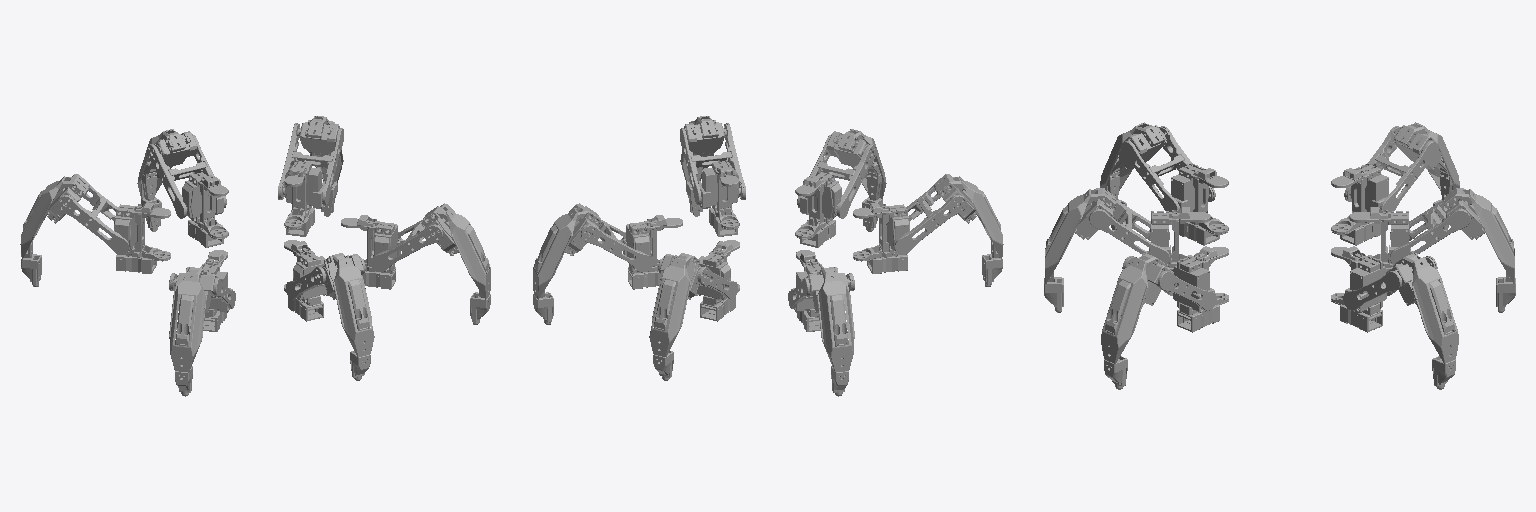
URDF robot description (sim_assembly):
<?xml version="1.0" ?>
<robot name="sim_assembly" xmlns:xacro="http://www.ros.org/wiki/xacro">

<link name="base_link">
  <inertial>
    <origin xyz="0.0029150291423598977 6.451213278016444e-05 0.08231668322927671" rpy="0 0 0"/>
    <mass value="2.7603940572615615"/>
    <inertia ixx="0.010426" iyy="0.011434" izz="0.020845" ixy="0.0" iyz="2e-06" ixz="8.2e-05"/>
  </inertial>
  <visual>
    <origin xyz="0 0 0" rpy="0 0 0"/>
    <geometry>
      <mesh filename="package://sim_description/meshes/base_link.stl" scale="0.001 0.001 0.001"/>
    </geometry>
    <material name="silver"/>
  </visual>
</link>

<link name="cox_L1_1">
  <inertial>
    <origin xyz="-0.02591620449566369 -0.02661901064445657 0.021624871839477283" rpy="0 0 0"/>
    <mass value="0.43432685299491564"/>
    <inertia ixx="0.000242" iyy="0.00024" izz="0.000124" ixy="-1.3e-05" iyz="1e-05" ixz="1.2e-05"/>
  </inertial>
  <visual>
    <origin xyz="0.087783 0.066055 -0.0596" rpy="0 0 0"/>
    <geometry>
      <mesh filename="package://sim_description/meshes/cox_L1_1.stl" scale="0.001 0.001 0.001"/>
    </geometry>
    <material name="red"/>
  </visual>
</link>

<link name="femur_L1_1">
  <inertial>
    <origin xyz="-0.00630362878791349 -0.04165884915417355 0.02374727271288421" rpy="0 0 0"/>
    <mass value="0.13198223137761092"/>
    <inertia ixx="9.4e-05" iyy="9.2e-05" izz="0.000131" ixy="1.3e-05" iyz="2.4e-05" ixz="2.4e-05"/>
  </inertial>
  <visual>
    <origin xyz="0.136785 0.078571 -0.0781" rpy="0 0 0"/>
    <geometry>
      <mesh filename="package://sim_description/meshes/femur_L1_1.stl" scale="0.001 0.001 0.001"/>
    </geometry>
    <material name="green"/>
  </visual>
</link>

<link name="tibia_L1_1">
  <inertial>
    <origin xyz="0.00443257717680598 -0.03266393553788731 -0.023970122942913882" rpy="0 0 0"/>
    <mass value="0.49510094478354577"/>
    <inertia ixx="0.000705" iyy="0.000714" izz="0.000267" ixy="-8.2e-05" iyz="-0.000196" ixz="-0.000204"/>
  </inertial>
  <visual>
    <origin xyz="0.183123 0.124909 -0.123986" rpy="0 0 0"/>
    <geometry>
      <mesh filename="package://sim_description/meshes/tibia_L1_1.stl" scale="0.001 0.001 0.001"/>
    </geometry>
    <material name="blue"/>
  </visual>
  <collision>
    <origin xyz="0.183123 0.124909 -0.123986" rpy="0 0 0"/>
    <geometry>
      <mesh filename="package://sim_description/meshes/tibia_L1_1.stl" scale="0.001 0.001 0.001"/>
    </geometry>
  </collision>
</link>

<link name="cox_L2_1">
  <inertial>
    <origin xyz="0.0004964743710710037 -0.03714794711024526 0.02162486116322518" rpy="0 0 0"/>
    <mass value="0.4343273697036566"/>
    <inertia ixx="0.000254" iyy="0.000228" izz="0.000124" ixy="1e-06" iyz="1.6e-05" ixz="1e-06"/>
  </inertial>
  <visual>
    <origin xyz="-0.0002 0.0855 -0.0596" rpy="0 0 0"/>
    <geometry>
      <mesh filename="package://sim_description/meshes/cox_L2_1.stl" scale="0.001 0.001 0.001"/>
    </geometry>
    <material name="red"/>
  </visual>
</link>

<link name="femur_L2_1">
  <inertial>
    <origin xyz="0.024999932602743927 -0.03391433252166742 0.023747300674978628" rpy="0 0 0"/>
    <mass value="0.13198203782549656"/>
    <inertia ixx="8e-05" iyy="0.000106" izz="0.000131" ixy="1e-06" iyz="3.4e-05" ixz="-1e-06"/>
  </inertial>
  <visual>
    <origin xyz="0.0256 0.129 -0.0781" rpy="0 0 0"/>
    <geometry>
      <mesh filename="package://sim_description/meshes/femur_L2_1.stl" scale="0.001 0.001 0.001"/>
    </geometry>
    <material name="green"/>
  </visual>
</link>

<link name="tibia_L2_1">
  <inertial>
    <origin xyz="0.026231231365709155 -0.019962156826335425 -0.023970158831343333" rpy="0 0 0"/>
    <mass value="0.4951010829528958"/>
    <inertia ixx="0.000791" iyy="0.000628" izz="0.000267" ixy="-5e-06" iyz="-0.000283" ixz="-6e-06"/>
  </inertial>
  <visual>
    <origin xyz="0.0256 0.194532 -0.123986" rpy="0 0 0"/>
    <geometry>
      <mesh filename="package://sim_description/meshes/tibia_L2_1.stl" scale="0.001 0.001 0.001"/>
    </geometry>
    <material name="blue"/>
  </visual>
  <collision>
    <origin xyz="0.0256 0.194532 -0.123986" rpy="0 0 0"/>
    <geometry>
      <mesh filename="package://sim_description/meshes/tibia_L2_1.stl" scale="0.001 0.001 0.001"/>
    </geometry>
  </collision>
</link>

<link name="cox_L3_1">
  <inertial>
    <origin xyz="0.026618767010835084 -0.02591646586785573 0.021624856109849683" rpy="0 0 0"/>
    <mass value="0.43432790820492373"/>
    <inertia ixx="0.00024" iyy="0.000242" izz="0.000124" ixy="1.3e-05" iyz="1.2e-05" ixz="-1e-05"/>
  </inertial>
  <visual>
    <origin xyz="-0.088556 0.065282 -0.0596" rpy="0 0 0"/>
    <geometry>
      <mesh filename="package://sim_description/meshes/cox_L3_1.stl" scale="0.001 0.001 0.001"/>
    </geometry>
    <material name="red"/>
  </visual>
</link>

<link name="femur_L3_1">
  <inertial>
    <origin xyz="0.04165864139948111 -0.006303836542603886 0.02374727271288457" rpy="0 0 0"/>
    <mass value="0.13198223137761053"/>
    <inertia ixx="9.2e-05" iyy="9.4e-05" izz="0.000131" ixy="-1.3e-05" iyz="2.4e-05" ixz="-2.4e-05"/>
  </inertial>
  <visual>
    <origin xyz="-0.101072 0.114284 -0.0781" rpy="0 0 0"/>
    <geometry>
      <mesh filename="package://sim_description/meshes/femur_L3_1.stl" scale="0.001 0.001 0.001"/>
    </geometry>
    <material name="green"/>
  </visual>
</link>

<link name="tibia_L3_1">
  <inertial>
    <origin xyz="0.032663727891389854 0.0044333695522212335 -0.023970122918941086" rpy="0 0 0"/>
    <mass value="0.4951009447835447"/>
    <inertia ixx="0.000714" iyy="0.000705" izz="0.000267" ixy="8.2e-05" iyz="-0.000204" ixz="0.000196"/>
  </inertial>
  <visual>
    <origin xyz="-0.14741 0.160623 -0.123986" rpy="0 0 0"/>
    <geometry>
      <mesh filename="package://sim_description/meshes/tibia_L3_1.stl" scale="0.001 0.001 0.001"/>
    </geometry>
    <material name="blue"/>
  </visual>
  <collision>
    <origin xyz="-0.14741 0.160623 -0.123986" rpy="0 0 0"/>
    <geometry>
      <mesh filename="package://sim_description/meshes/tibia_L3_1.stl" scale="0.001 0.001 0.001"/>
    </geometry>
  </collision>
</link>

<link name="cox_R1_1">
  <inertial>
    <origin xyz="-0.025916257190701786 0.026618975128233482 0.02162487097241285" rpy="0 0 0"/>
    <mass value="0.4343278965105797"/>
    <inertia ixx="0.000242" iyy="0.00024" izz="0.000124" ixy="1.3e-05" iyz="-1e-05" ixz="1.2e-05"/>
  </inertial>
  <visual>
    <origin xyz="0.087783 -0.066055 -0.0596" rpy="0 0 0"/>
    <geometry>
      <mesh filename="package://sim_description/meshes/cox_R1_1.stl" scale="0.001 0.001 0.001"/>
    </geometry>
    <material name="red"/>
  </visual>
</link>

<link name="femur_R1_1">
  <inertial>
    <origin xyz="-0.006303630531844739 0.04165884858233347 0.023747273769405303" rpy="0 0 0"/>
    <mass value="0.13198221421387046"/>
    <inertia ixx="9.4e-05" iyy="9.2e-05" izz="0.000131" ixy="-1.3e-05" iyz="-2.4e-05" ixz="2.4e-05"/>
  </inertial>
  <visual>
    <origin xyz="0.136785 -0.078571 -0.0781" rpy="0 0 0"/>
    <geometry>
      <mesh filename="package://sim_description/meshes/femur_R1_1.stl" scale="0.001 0.001 0.001"/>
    </geometry>
    <material name="green"/>
  </visual>
</link>

<link name="tibia_R1_1">
  <inertial>
    <origin xyz="0.0044325718207138265 0.032663940554899004 -0.023970148077329723" rpy="0 0 0"/>
    <mass value="0.4951011694911315"/>
    <inertia ixx="0.000705" iyy="0.000714" izz="0.000267" ixy="8.2e-05" iyz="0.000196" ixz="-0.000204"/>
  </inertial>
  <visual>
    <origin xyz="0.183123 -0.124909 -0.123986" rpy="0 0 0"/>
    <geometry>
      <mesh filename="package://sim_description/meshes/tibia_R1_1.stl" scale="0.001 0.001 0.001"/>
    </geometry>
    <material name="blue"/>
  </visual>
  <collision>
    <origin xyz="0.183123 -0.124909 -0.123986" rpy="0 0 0"/>
    <geometry>
      <mesh filename="package://sim_description/meshes/tibia_R1_1.stl" scale="0.001 0.001 0.001"/>
    </geometry>
  </collision>
</link>

<link name="cox_R2_1">
  <inertial>
    <origin xyz="0.0004964743710715687 0.03714794711024519 0.021624867320856722" rpy="0 0 0"/>
    <mass value="0.4343273697036439"/>
    <inertia ixx="0.000254" iyy="0.000228" izz="0.000124" ixy="-1e-06" iyz="-1.6e-05" ixz="1e-06"/>
  </inertial>
  <visual>
    <origin xyz="-0.0002 -0.0855 -0.0596" rpy="0 0 0"/>
    <geometry>
      <mesh filename="package://sim_description/meshes/cox_R2_1.stl" scale="0.001 0.001 0.001"/>
    </geometry>
    <material name="red"/>
  </visual>
</link>

<link name="femur_R2_1">
  <inertial>
    <origin xyz="0.02499993399466704 0.033914364710497136 0.02374731532721193" rpy="0 0 0"/>
    <mass value="0.13198159441271942"/>
    <inertia ixx="8e-05" iyy="0.000106" izz="0.000131" ixy="-1e-06" iyz="-3.4e-05" ixz="-1e-06"/>
  </inertial>
  <visual>
    <origin xyz="0.0256 -0.129 -0.0781" rpy="0 0 0"/>
    <geometry>
      <mesh filename="package://sim_description/meshes/femur_R2_1.stl" scale="0.001 0.001 0.001"/>
    </geometry>
    <material name="green"/>
  </visual>
</link>

<link name="tibia_R2_1">
  <inertial>
    <origin xyz="0.026231231649431988 0.019962149894543285 -0.023970149401849272" rpy="0 0 0"/>
    <mass value="0.495101048843146"/>
    <inertia ixx="0.000791" iyy="0.000628" izz="0.000267" ixy="5e-06" iyz="0.000283" ixz="-6e-06"/>
  </inertial>
  <visual>
    <origin xyz="0.0256 -0.194532 -0.123986" rpy="0 0 0"/>
    <geometry>
      <mesh filename="package://sim_description/meshes/tibia_R2_1.stl" scale="0.001 0.001 0.001"/>
    </geometry>
    <material name="blue"/>
  </visual>
  <collision>
    <origin xyz="0.0256 -0.194532 -0.123986" rpy="0 0 0"/>
    <geometry>
      <mesh filename="package://sim_description/meshes/tibia_R2_1.stl" scale="0.001 0.001 0.001"/>
    </geometry>
  </collision>
</link>

<link name="cox_R3_1">
  <inertial>
    <origin xyz="0.026618802847938647 0.02591641194758179 0.02162486172957641" rpy="0 0 0"/>
    <mass value="0.4343268468117766"/>
    <inertia ixx="0.00024" iyy="0.000242" izz="0.000124" ixy="-1.3e-05" iyz="-1.2e-05" ixz="-1e-05"/>
  </inertial>
  <visual>
    <origin xyz="-0.088556 -0.065282 -0.0596" rpy="0 0 0"/>
    <geometry>
      <mesh filename="package://sim_description/meshes/cox_R3_1.stl" scale="0.001 0.001 0.001"/>
    </geometry>
    <material name="red"/>
  </visual>
</link>

<link name="femur_R3_1">
  <inertial>
    <origin xyz="0.04165864082764131 0.0063038382865351905 0.02374727376940572" rpy="0 0 0"/>
    <mass value="0.1319822142138699"/>
    <inertia ixx="9.2e-05" iyy="9.4e-05" izz="0.000131" ixy="1.3e-05" iyz="-2.4e-05" ixz="-2.4e-05"/>
  </inertial>
  <visual>
    <origin xyz="-0.101072 -0.114284 -0.0781" rpy="0 0 0"/>
    <geometry>
      <mesh filename="package://sim_description/meshes/femur_R3_1.stl" scale="0.001 0.001 0.001"/>
    </geometry>
    <material name="green"/>
  </visual>
</link>

<link name="tibia_R3_1">
  <inertial>
    <origin xyz="0.03266373292993158 -0.0044333641957500225 -0.023970148077329848" rpy="0 0 0"/>
    <mass value="0.4951011694911329"/>
    <inertia ixx="0.000714" iyy="0.000705" izz="0.000267" ixy="-8.2e-05" iyz="0.000204" ixz="0.000196"/>
  </inertial>
  <visual>
    <origin xyz="-0.14741 -0.160623 -0.123986" rpy="0 0 0"/>
    <geometry>
      <mesh filename="package://sim_description/meshes/tibia_R3_1.stl" scale="0.001 0.001 0.001"/>
    </geometry>
    <material name="blue"/>
  </visual>
  <collision>
    <origin xyz="-0.14741 -0.160623 -0.123986" rpy="0 0 0"/>
    <geometry>
      <mesh filename="package://sim_description/meshes/tibia_R3_1.stl" scale="0.001 0.001 0.001"/>
    </geometry>
  </collision>
</link>

<joint name="R31" type="revolute">
  <origin xyz="-0.087783 -0.066055 0.0596" rpy="0 0 0"/>
  <parent link="base_link"/>
  <child link="cox_L1_1"/>
  <axis xyz="0.0 -0.0 -1.0"/>
  <limit upper="1" lower="-1" effort="100" velocity="100"/>
</joint>

<joint name="R32" type="revolute">
  <origin xyz="-0.049002 -0.012516 0.0185" rpy="0 0 0"/>
  <parent link="cox_L1_1"/>
  <child link="femur_L1_1"/>
  <axis xyz="-0.707107 0.707107 -0.0"/>
  <limit upper="0.8" lower="-0.8" effort="100" velocity="100"/>
</joint>

<joint name="R33" type="revolute">
  <origin xyz="-0.046338 -0.046338 0.045886" rpy="0 0 0"/>
  <parent link="femur_L1_1"/>
  <child link="tibia_L1_1"/>
  <axis xyz="0.707107 -0.707107 0.0"/>
  <limit upper="0.7" lower="-1.570796" effort="100" velocity="100"/>
</joint>

<joint name="R21" type="revolute">
  <origin xyz="0.0002 -0.0855 0.0596" rpy="0 0 0"/>
  <parent link="base_link"/>
  <child link="cox_L2_1"/>
  <axis xyz="0.0 -0.0 -1.0"/>
  <limit upper="1" lower="-1" effort="100" velocity="100"/>
</joint>

<joint name="R22" type="revolute">
  <origin xyz="-0.0258 -0.0435 0.0185" rpy="0 0 0"/>
  <parent link="cox_L2_1"/>
  <child link="femur_L2_1"/>
  <axis xyz="-1.0 -0.0 -0.0"/>
  <limit upper="0.8" lower="-0.8" effort="100" velocity="100"/>
</joint>

<joint name="R23" type="revolute">
  <origin xyz="0.0 -0.065532 0.045886" rpy="0 0 0"/>
  <parent link="femur_L2_1"/>
  <child link="tibia_L2_1"/>
  <axis xyz="1.0 -0.0 0.0"/>
  <limit upper="0.7" lower="-1.570796" effort="100" velocity="100"/>
</joint>

<joint name="R11" type="revolute">
  <origin xyz="0.088556 -0.065282 0.0596" rpy="0 0 0"/>
  <parent link="base_link"/>
  <child link="cox_L3_1"/>
  <axis xyz="0.0 0.0 -1.0"/>
  <limit upper="1" lower="-1" effort="100" velocity="100"/>
</joint>

<joint name="R12" type="revolute">
  <origin xyz="0.012516 -0.049002 0.0185" rpy="0 0 0"/>
  <parent link="cox_L3_1"/>
  <child link="femur_L3_1"/>
  <axis xyz="-0.707107 -0.707107 -0.0"/>
  <limit upper="0.8" lower="-0.8" effort="100" velocity="100"/>
</joint>

<joint name="R13" type="revolute">
  <origin xyz="0.046338 -0.046339 0.045886" rpy="0 0 0"/>
  <parent link="femur_L3_1"/>
  <child link="tibia_L3_1"/>
  <axis xyz="0.707107 0.707107 0.0"/>
  <limit upper="0.7" lower="-1.570796" effort="100" velocity="100"/>
</joint>

<joint name="L31" type="revolute">
  <origin xyz="-0.087783 0.066055 0.0596" rpy="0 0 0"/>
  <parent link="base_link"/>
  <child link="cox_R1_1"/>
  <axis xyz="-0.0 -0.0 -1.0"/>
  <limit upper="1" lower="-1" effort="100" velocity="100"/>
</joint>

<joint name="L32" type="revolute">
  <origin xyz="-0.049002 0.012516 0.0185" rpy="0 0 0"/>
  <parent link="cox_R1_1"/>
  <child link="femur_R1_1"/>
  <axis xyz="0.707107 0.707107 0.0"/>
  <limit upper="0.8" lower="-0.8" effort="100" velocity="100"/>
</joint>

<joint name="L33" type="revolute">
  <origin xyz="-0.046338 0.046338 0.045886" rpy="0 0 0"/>
  <parent link="femur_R1_1"/>
  <child link="tibia_R1_1"/>
  <axis xyz="-0.707107 -0.707107 -0.0"/>
  <limit upper="0.7" lower="-1.570796" effort="100" velocity="100"/>
</joint>

<joint name="L21" type="revolute">
  <origin xyz="0.0002 0.0855 0.0596" rpy="0 0 0"/>
  <parent link="base_link"/>
  <child link="cox_R2_1"/>
  <axis xyz="-0.0 -0.0 -1.0"/>
  <limit upper="1" lower="-1" effort="100" velocity="100"/>
</joint>

<joint name="L22" type="revolute">
  <origin xyz="-0.0258 0.0435 0.0185" rpy="0 0 0"/>
  <parent link="cox_R2_1"/>
  <child link="femur_R2_1"/>
  <axis xyz="1.0 -0.0 0.0"/>
  <limit upper="0.8" lower="-0.8" effort="100" velocity="100"/>
</joint>

<joint name="L23" type="revolute">
  <origin xyz="0.0 0.065532 0.045886" rpy="0 0 0"/>
  <parent link="femur_R2_1"/>
  <child link="tibia_R2_1"/>
  <axis xyz="-1.0 -0.0 -0.0"/>
  <limit upper="0.7" lower="-1.570796" effort="100" velocity="100"/>
</joint>

<joint name="L11" type="revolute">
  <origin xyz="0.088556 0.065282 0.0596" rpy="0 0 0"/>
  <parent link="base_link"/>
  <child link="cox_R3_1"/>
  <axis xyz="-0.0 0.0 -1.0"/>
  <limit upper="1" lower="-1" effort="100" velocity="100"/>
</joint>

<joint name="L12" type="revolute">
  <origin xyz="0.012516 0.049002 0.0185" rpy="0 0 0"/>
  <parent link="cox_R3_1"/>
  <child link="femur_R3_1"/>
  <axis xyz="0.707107 -0.707107 0.0"/>
  <limit upper="0.8" lower="-0.8" effort="100" velocity="100"/>
</joint>

<joint name="L13" type="revolute">
  <origin xyz="0.046338 0.046339 0.045886" rpy="0 0 0"/>
  <parent link="femur_R3_1"/>
  <child link="tibia_R3_1"/>
  <axis xyz="-0.707107 0.707107 -0.0"/>
  <limit upper="0.7" lower="-1.570796" effort="100" velocity="100"/>
</joint>

<material name="silver">
  <color rgba="0.7 0.7 0.7 1.0"/>
</material>

<material name="blue">
  <color rgba="0.7 0.7 0.7 1.0"/>
</material>

<material name="green">
  <color rgba="0.7 0.7 0.7 1.0"/>
</material>

<material name="red">
  <color rgba="0.7 0.7 0.7 1.0"/>
</material>

</robot>

--- What the picture shows (computed from the rendered views, not written in the file) ---
3 views of the same robot in one strip: view 1: azimuth 30°, elevation 25°; view 2: azimuth 150°, elevation 25°; view 3: azimuth 270°, elevation 25° (orthographic).
Model sim_assembly with 19 links and 18 joints (18 revolute), rooted at base_link, posed all joints at 0.
Links seen in each view (by area): view 1: tibia_L1_1, tibia_L2_1, tibia_L3_1, cox_R2_1, tibia_R1_1, cox_R1_1, cox_R3_1, tibia_R2_1, cox_L3_1, tibia_R3_1, cox_L2_1, femur_R1_1 (+5 smaller); view 2: tibia_R1_1, tibia_R2_1, tibia_R3_1, cox_L2_1, tibia_L1_1, cox_L1_1, cox_L3_1, tibia_L2_1, cox_R3_1, tibia_L3_1, cox_R2_1, femur_L1_1 (+5 smaller); view 3: tibia_L3_1, tibia_R3_1, tibia_L2_1, tibia_R2_1, cox_L1_1, cox_R1_1, cox_L3_1, cox_R3_1, tibia_L1_1, tibia_R1_1, femur_L2_1, femur_R2_1 (+6 smaller).
Link boxes in pixels (box(x1,y1,x2,y2)): tibia_L1_1: box(169, 267, 217, 396); tibia_L2_1: box(319, 253, 374, 380); tibia_L3_1: box(423, 203, 490, 324); cox_R2_1: box(182, 172, 228, 247); tibia_R1_1: box(20, 174, 89, 286); cox_R1_1: box(114, 202, 170, 273); cox_R3_1: box(280, 160, 324, 236); tibia_R2_1: box(137, 129, 196, 231); cox_L3_1: box(341, 215, 400, 289); tibia_R3_1: box(295, 116, 343, 216); cox_L2_1: box(284, 240, 328, 321); femur_R1_1: box(57, 178, 128, 254); tibia_R1_1: box(806, 267, 854, 396); tibia_R2_1: box(649, 253, 704, 380); tibia_R3_1: box(533, 203, 600, 324); cox_L2_1: box(795, 172, 841, 247); tibia_L1_1: box(934, 174, 1003, 286); cox_L1_1: box(853, 202, 909, 273); cox_L3_1: box(699, 160, 743, 236); tibia_L2_1: box(827, 129, 886, 231); cox_R3_1: box(623, 215, 682, 289); tibia_L3_1: box(680, 116, 728, 216); cox_R2_1: box(695, 240, 739, 321); femur_L1_1: box(895, 178, 966, 254); tibia_L3_1: box(1101, 253, 1173, 389); tibia_R3_1: box(1386, 253, 1458, 389); tibia_L2_1: box(1044, 188, 1115, 312); tibia_R2_1: box(1444, 188, 1515, 312); cox_L1_1: box(1171, 163, 1228, 245); cox_R1_1: box(1331, 163, 1388, 245); cox_L3_1: box(1169, 246, 1228, 332); cox_R3_1: box(1331, 246, 1390, 332); tibia_L1_1: box(1100, 122, 1168, 229); tibia_R1_1: box(1391, 122, 1459, 229); femur_L2_1: box(1089, 188, 1169, 264); femur_R2_1: box(1390, 188, 1470, 264).
Bounding box of the posed robot: 0.432 × 0.507 × 0.1439 m (x, y, z).
Meshes: 19 distinct files referenced, 18 mesh visuals loaded (18 binary STL); not drawn: 1 (reference not matched to a file when rendering).
